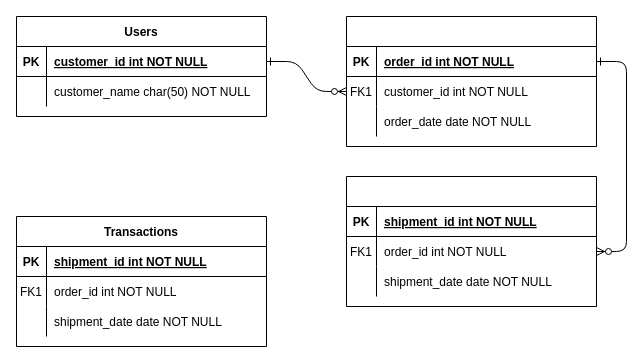
Some shapes in this 643 by 363 pixel diagram are drawn without their labels. Here are the shapes that lost their labels. From the top down, the box of each, then its label:
(346, 16, 596, 146): Holdings
(346, 176, 596, 306): Shipments
